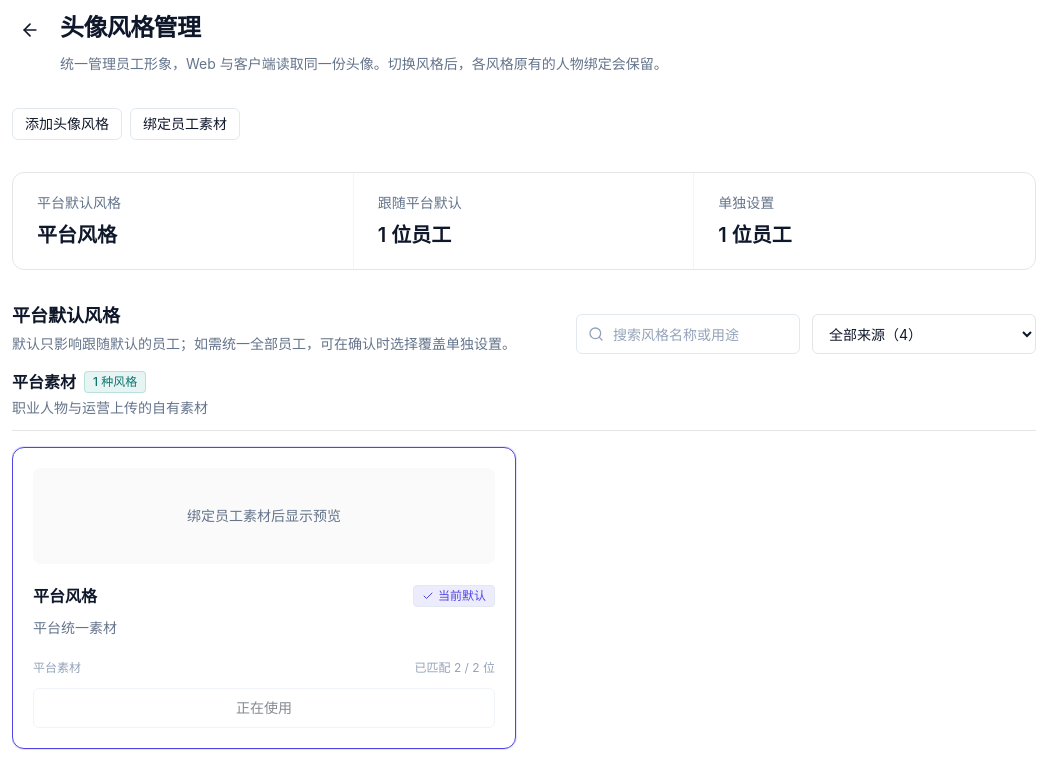
Test: 人物头像来源分类 › 风格搜索和来源筛选组合生效，空结果可清除且不影响员工搜索
The width and height of the screenshot is (1048, 765).
Check: the element "平台风格" is shown, box [12,447,516,749]
In the field named "搜索头像风格": (688, 334) [576,314,800,354], type "Toon Head"
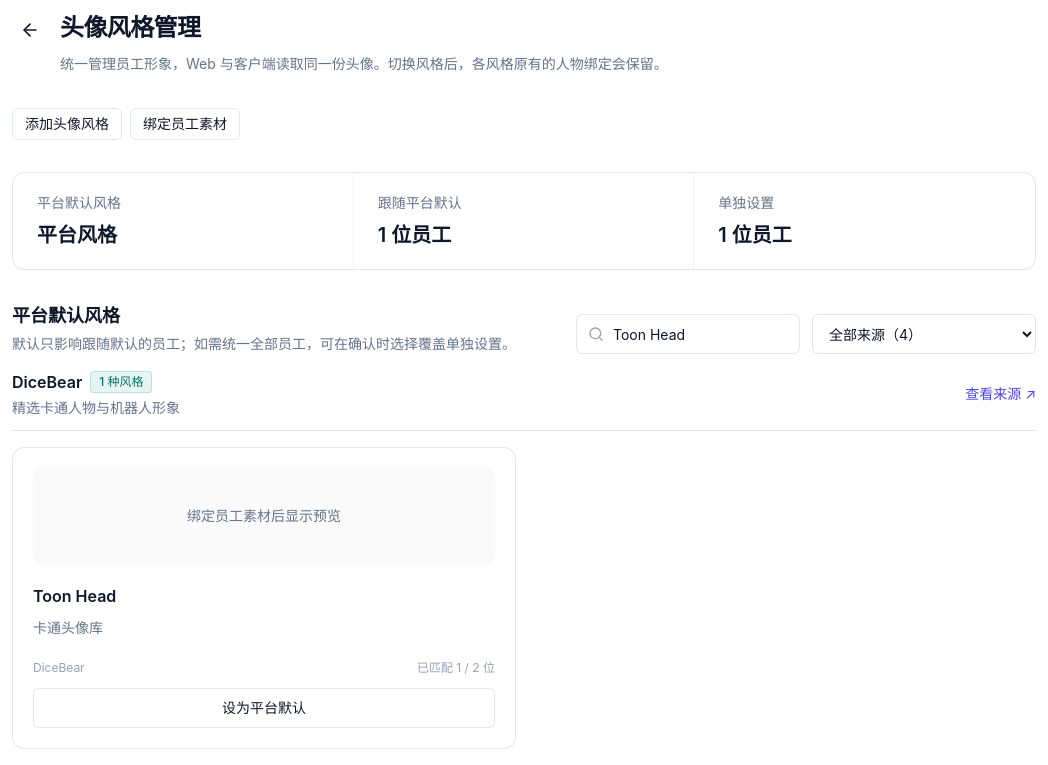
Select "Open Peeps 原版（1）" in the dropdown named "筛选风格来源": (924, 334) [812,314,1036,354]
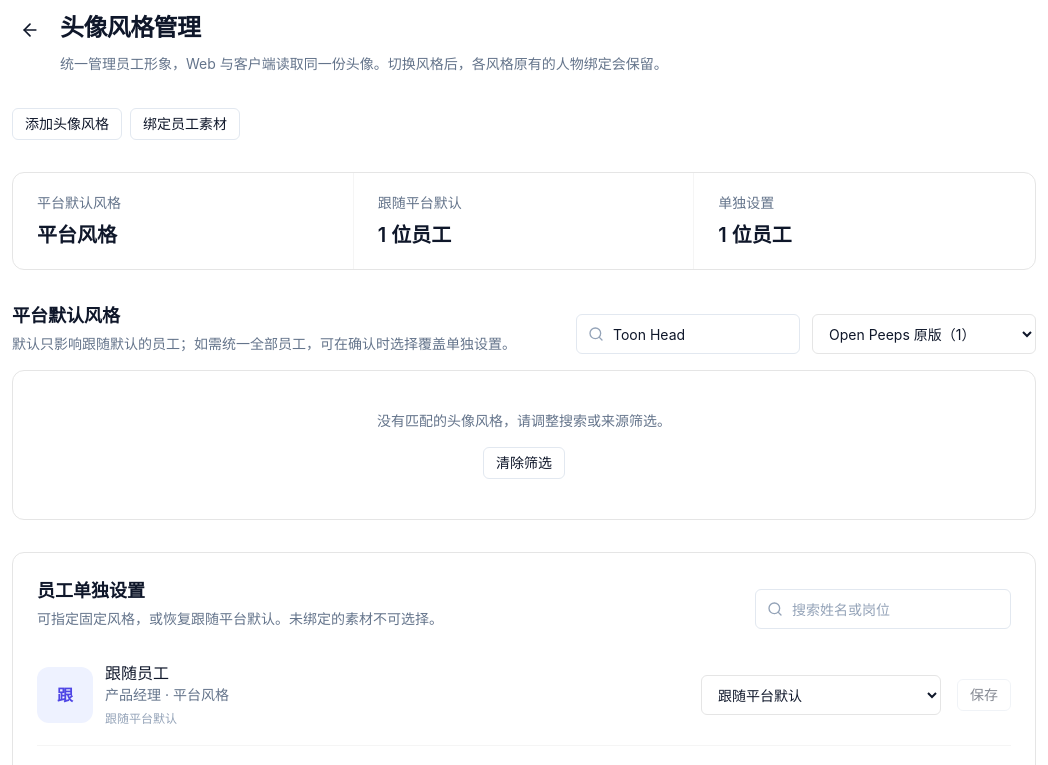
Check: the text "没有匹配的头像风格，请调整搜索或来源筛选。" is shown, box [377,412,671,429]
Click the button "清除筛选": click(524, 463) [483,447,565,479]
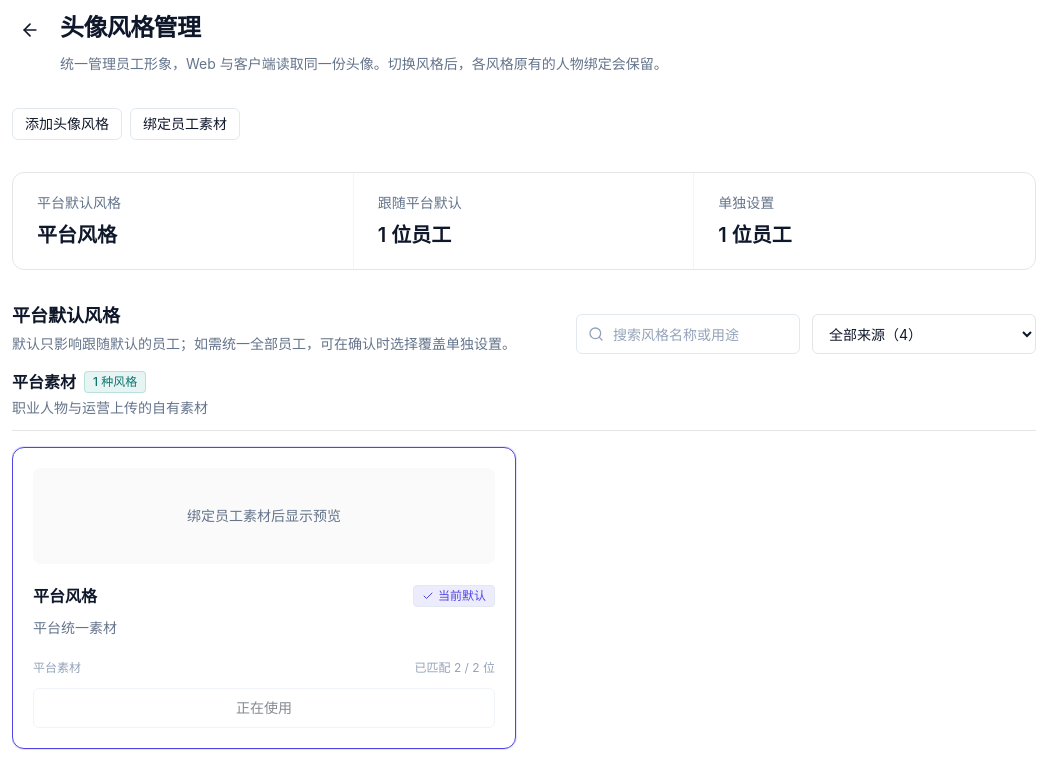
Check: the field named "搜索头像风格" is empty, box [576,314,800,354]
